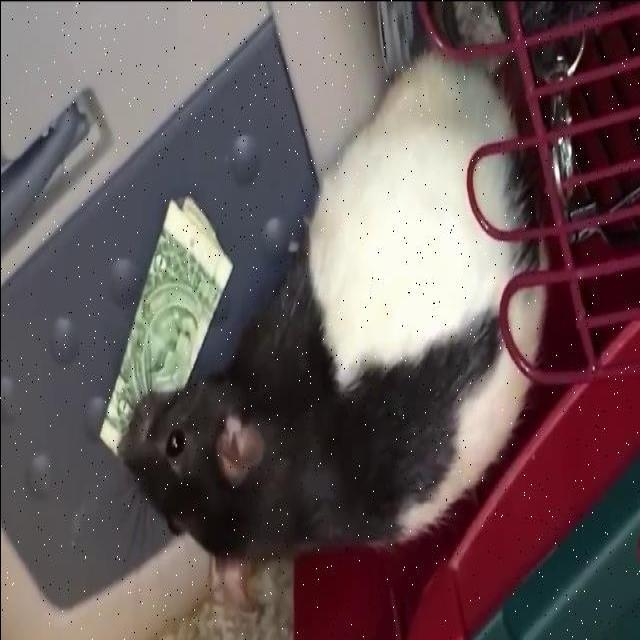rat: (118, 47, 552, 615)
